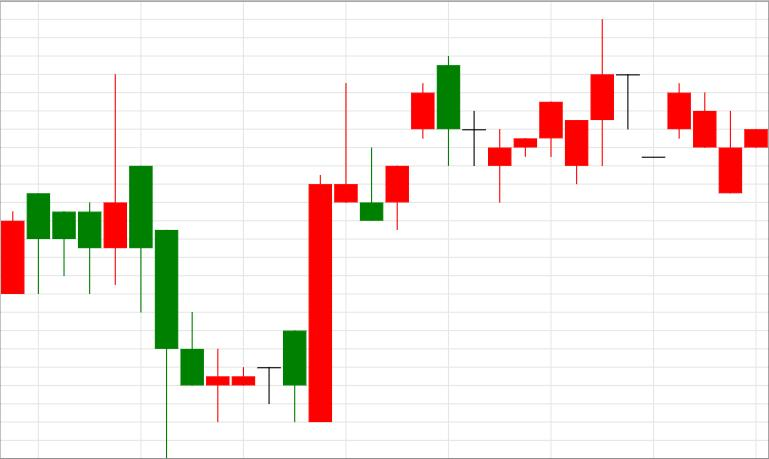bearish_engulfing_fall: (284, 56, 460, 422)
bullish_engulfing_rise: (130, 167, 331, 458)
